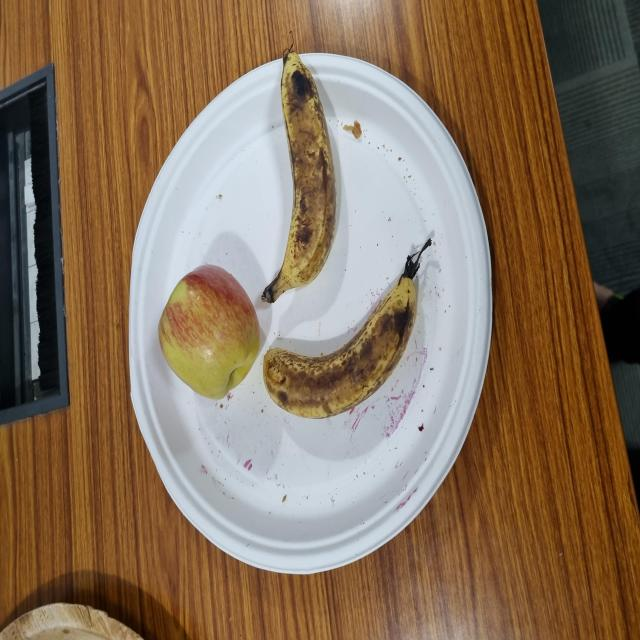apple: (152, 262, 257, 404)
banana: (263, 275, 417, 418), (262, 50, 337, 303)
